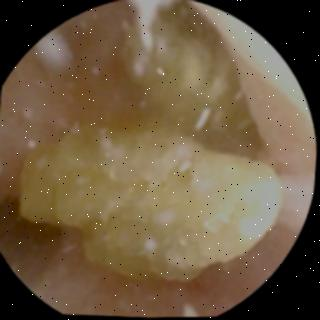stone: (23, 6, 283, 283)
